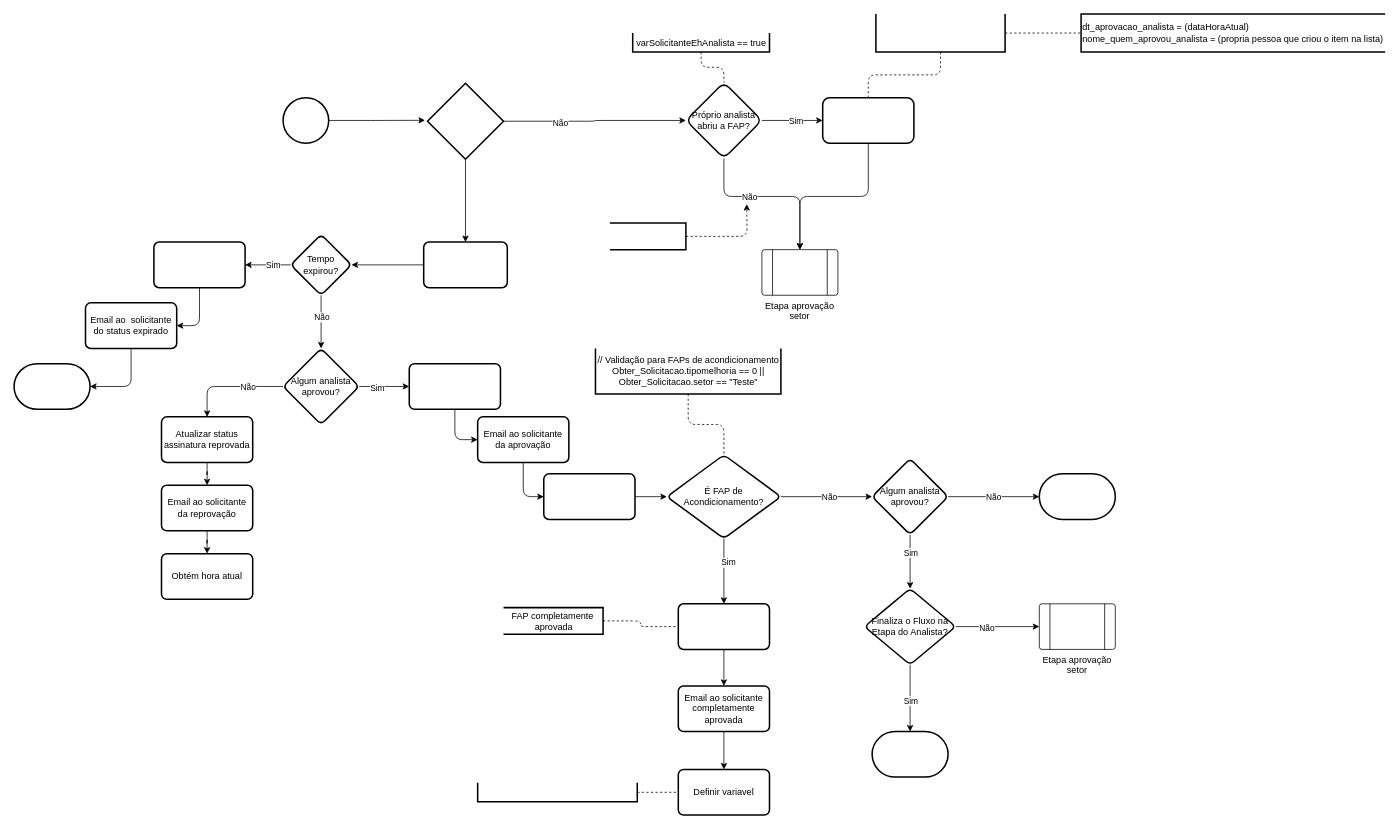
This 1398x828 diagram has some shape labels left out. Here are the shapes that lost their labels. From the top down, the centre of each, then its label:
At [940,32]: "Atualiza a Assinatura com aprovação automatica do analista que abriu a FAP".
At [465,121]: "Tem analistas aprovadores?".
At [868,120]: "Aprovação automatica do analista".
At [647,236]: "Não tem analista aprovador".
At [199,264]: "Definir status da FAP para expirado".
At [465,264]: "Iniciar e aguardar uma aprovação".
At [454,386]: "Atualizar status assinatura aprovada".
At [589,496]: "Obté m hora atual".
At [723,626]: "Aprovar assinatura inteira".
At [557,792]: "varFinalizarFluxoEtapaAnalista = true".
